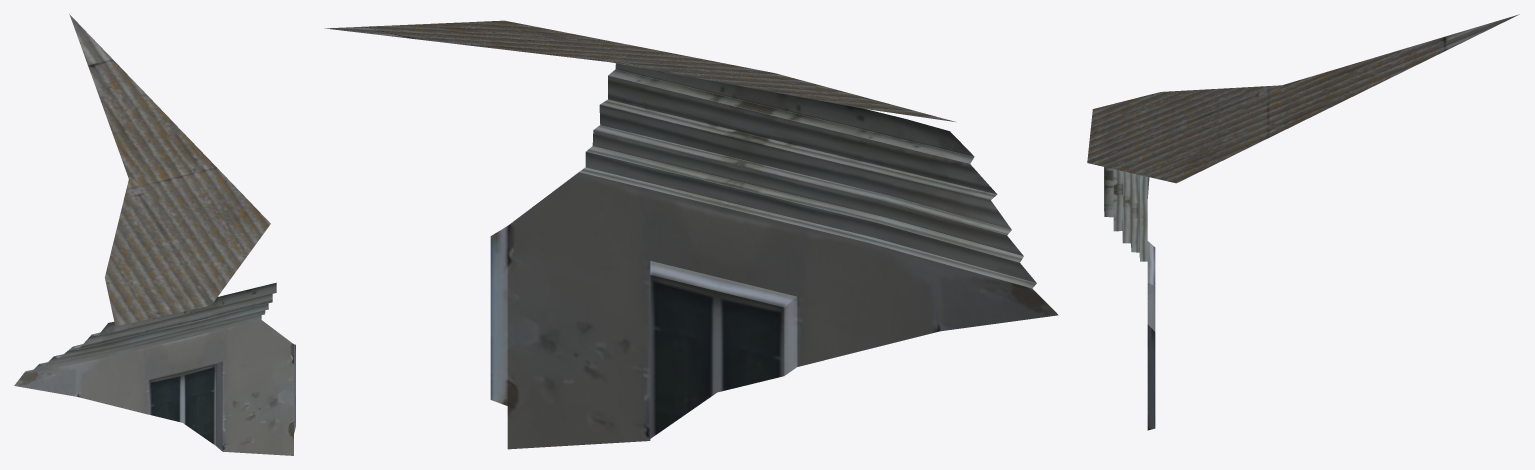
File: House_03_15.fbx
3 renders of one model, left to right at view 1: azimuth 30°, elevation 25°; view 2: azimuth 150°, elevation 25°; view 3: azimuth 270°, elevation 25°, orthographic. The views are drawn at different scales.
Visible parts, largest first — view 1: Дом2.015; view 2: Дом2.015; view 3: Дом2.015.
Boxes of the visible parts, x1,y1,x2,y2 form: Дом2.015: (14,14,295,455); Дом2.015: (324,20,1058,449); Дом2.015: (1087,14,1519,430).
Size of the model in its own units: 9.52 by 11 by 10.71.
1 material, 1 textured.
